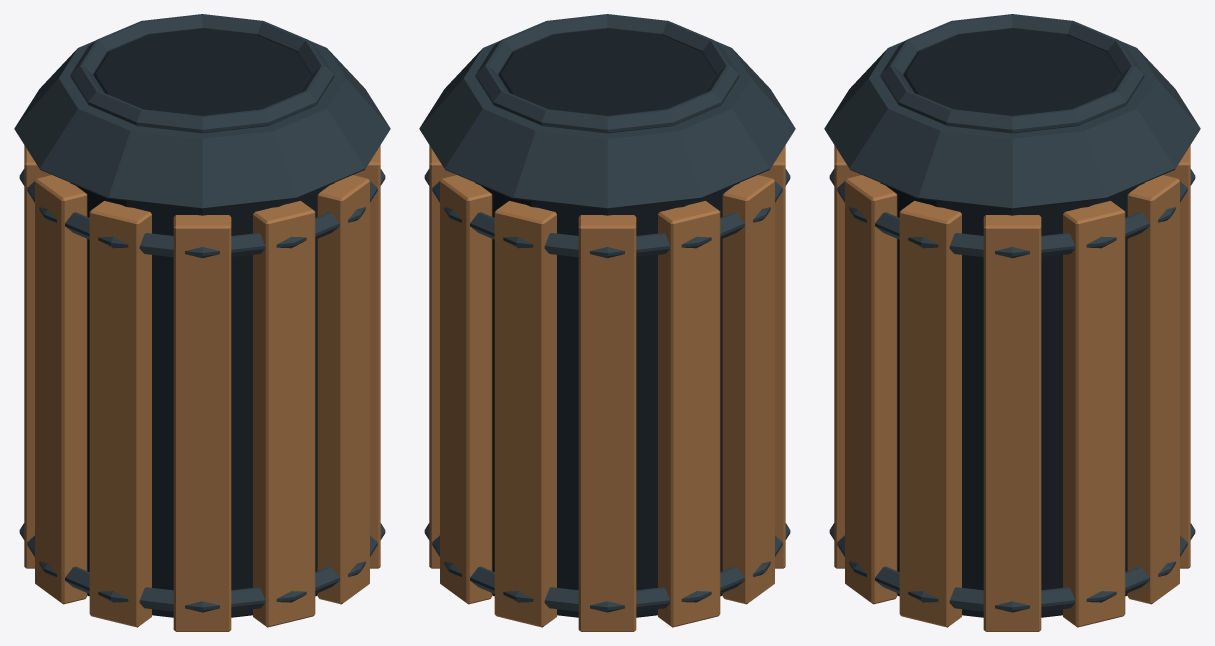
The model's file is b04_slatted_park_litter_bin.glb.
The picture shows the model from 3 angles, left to right: view 1: azimuth 30°, elevation 25°; view 2: azimuth 150°, elevation 25°; view 3: azimuth 270°, elevation 25°; orthographic projection.
Parts seen in each view (by area): view 1: b04_slatted_park_litter_bin; view 2: b04_slatted_park_litter_bin; view 3: b04_slatted_park_litter_bin.
Part boxes in pixels (bbox=[...]): b04_slatted_park_litter_bin: bbox=[14, 14, 390, 631]; b04_slatted_park_litter_bin: bbox=[419, 14, 795, 631]; b04_slatted_park_litter_bin: bbox=[824, 14, 1200, 631].
Size of the model in its own units: 0.6549 by 0.9441 by 0.6549.
